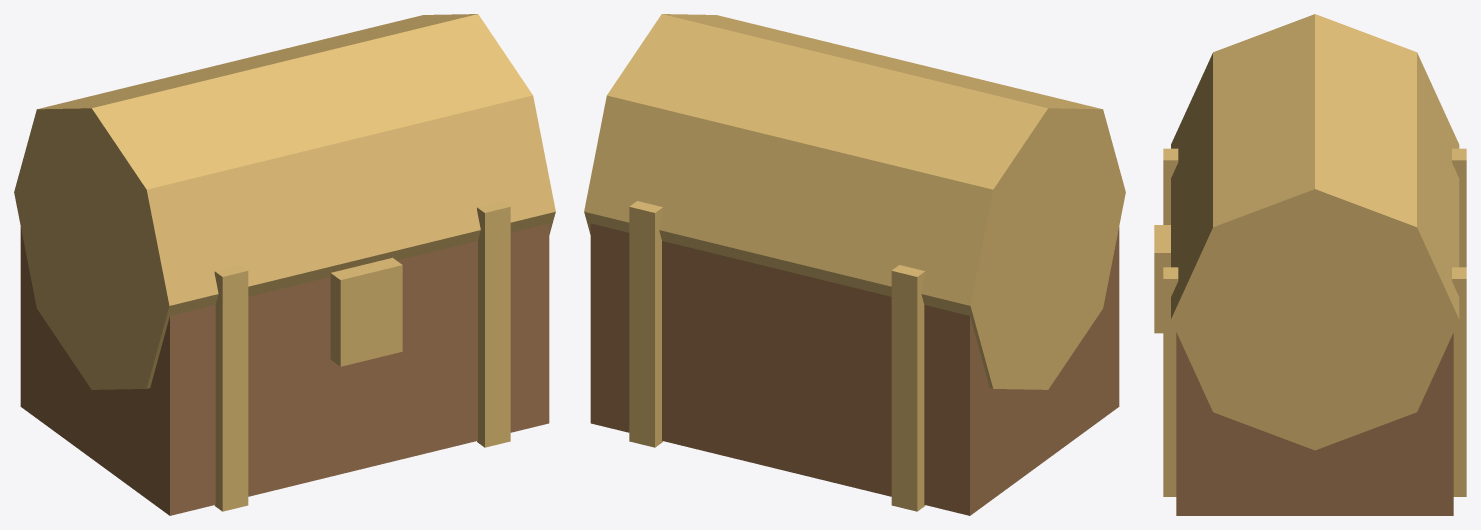
Rendered from loot_chest.glb.
3 renders of one model, left to right at view 1: azimuth 30°, elevation 25°; view 2: azimuth 150°, elevation 25°; view 3: azimuth 270°, elevation 25°, orthographic. The views are drawn at different scales.
Parts seen in each view (by area): view 1: loot_chest; view 2: loot_chest; view 3: loot_chest.
Part boxes in pixels (<box>): loot_chest: <box>14,14,555,515</box>; loot_chest: <box>584,14,1125,515</box>; loot_chest: <box>1154,14,1466,515</box>.
Size of the model in its own units: 1.12 by 0.985 by 0.845.
